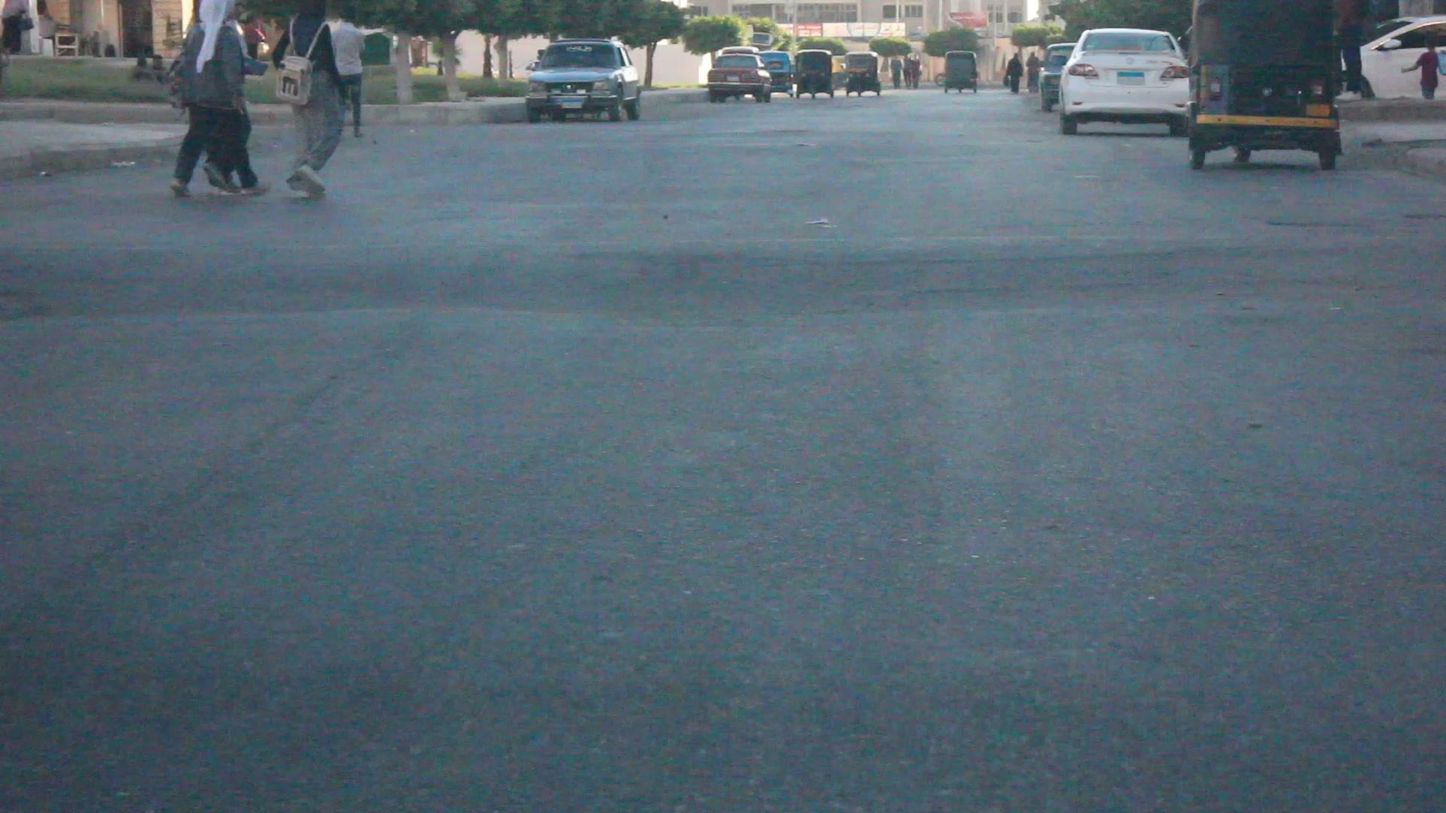Bump: (8, 233, 1446, 327)
